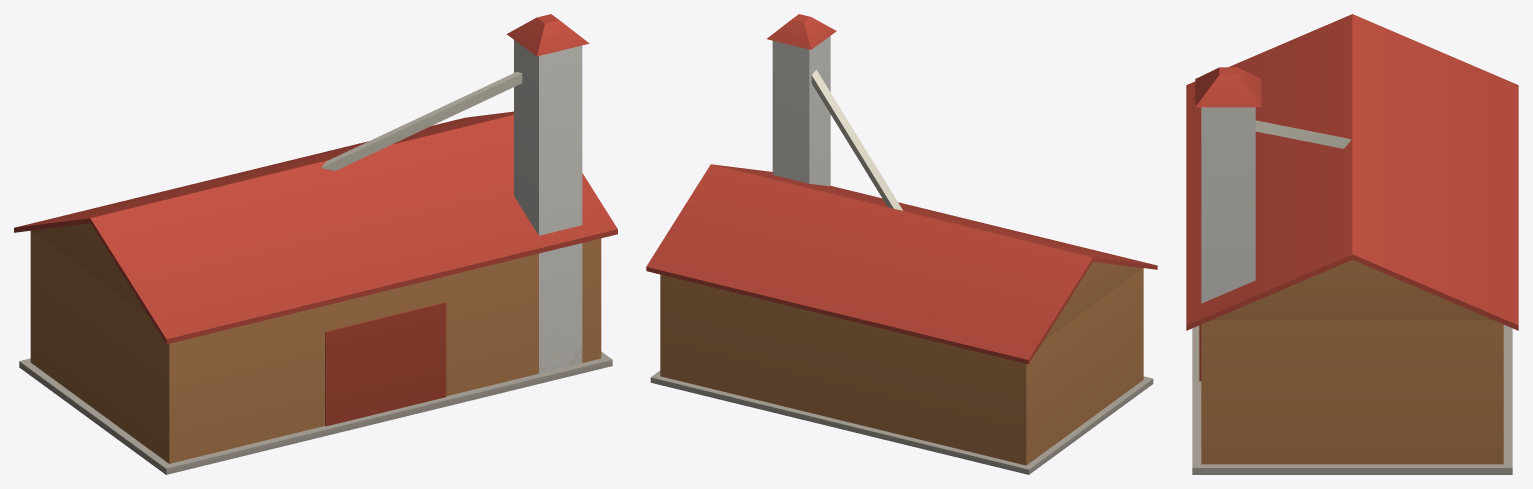
File: grain_buyer.glb
3 views of the same model, side by side, from view 1: azimuth 30°, elevation 25°; view 2: azimuth 150°, elevation 25°; view 3: azimuth 270°, elevation 25° (orthographic). The views are drawn at different scales.
Visible parts, largest first — view 1: grain_buyer; view 2: grain_buyer; view 3: grain_buyer.
Part boxes in pixels (x1,y1,x2,y2): grain_buyer: [14, 14, 617, 474]; grain_buyer: [646, 14, 1157, 474]; grain_buyer: [1186, 14, 1518, 474].
Size of the model in its own units: 18.8 by 13.8 by 11.
1 material, 1 textured.
